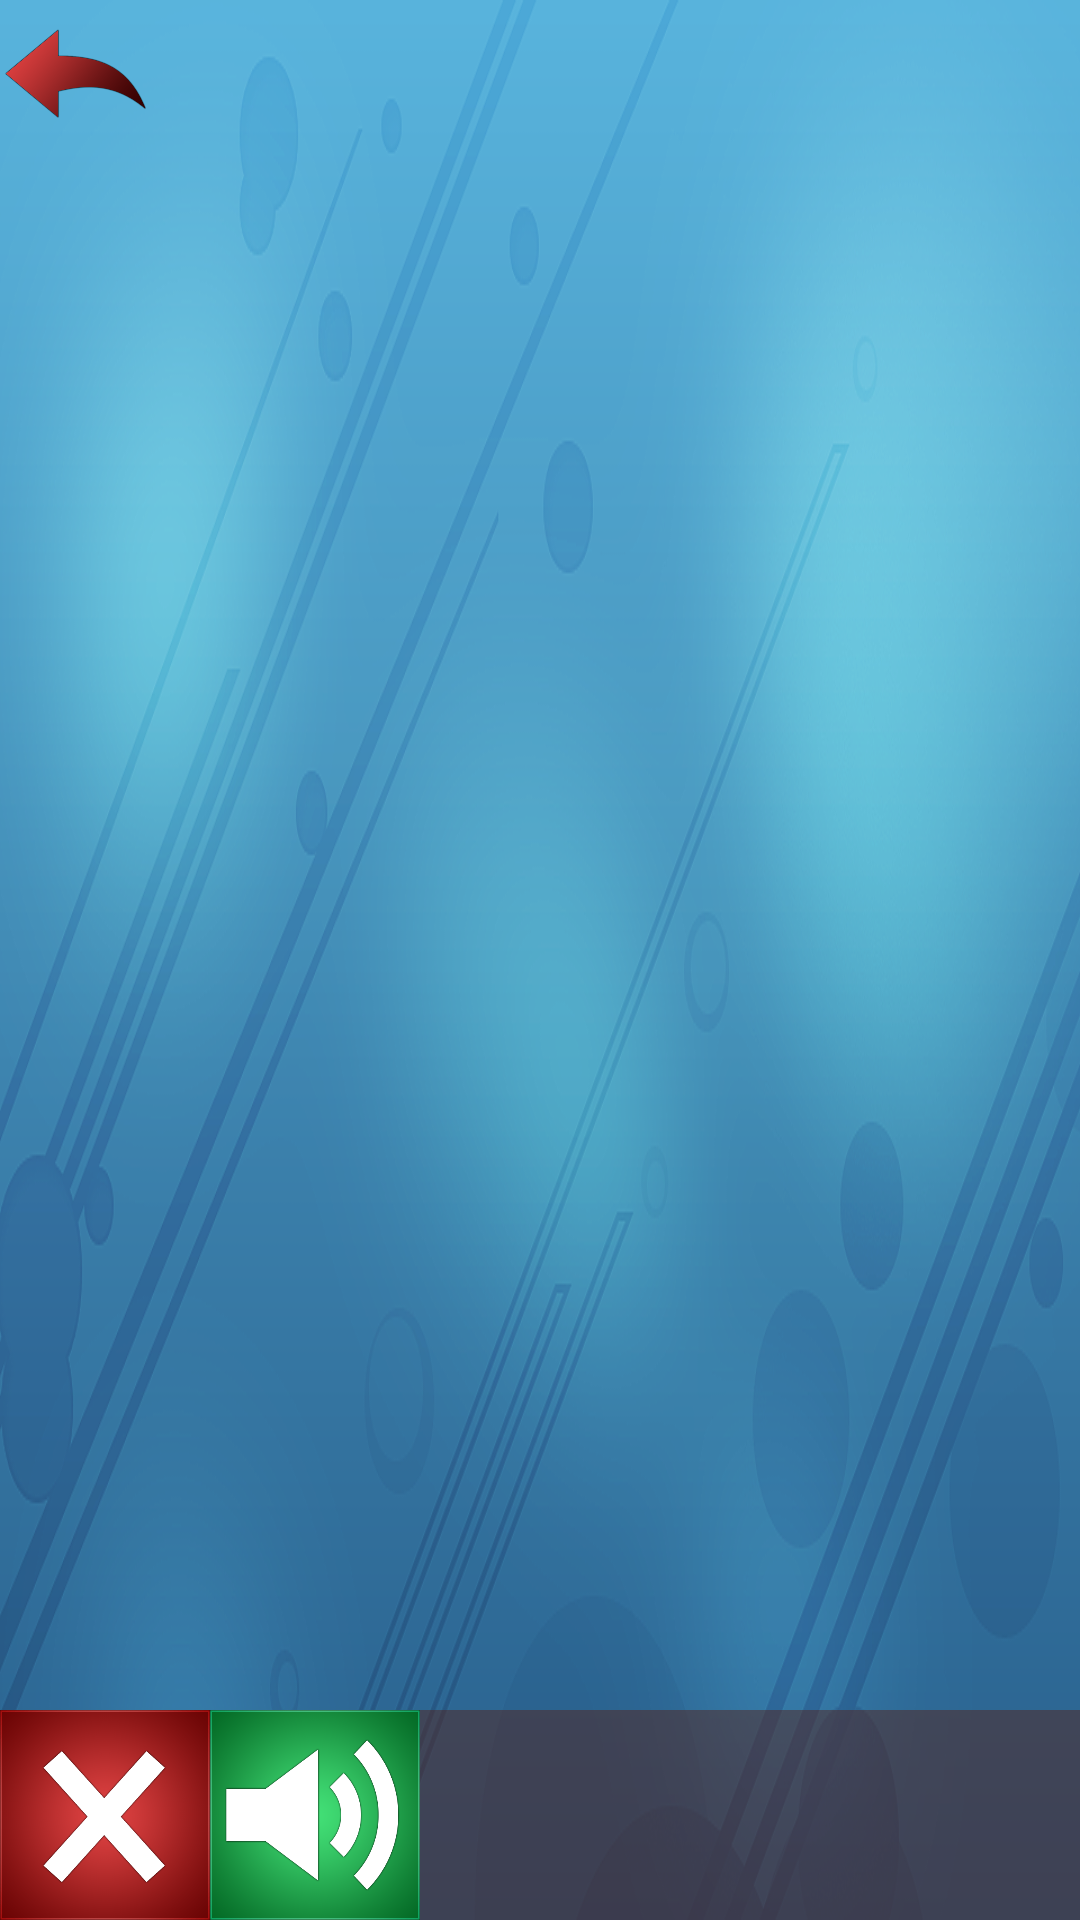

Screen size 1080px x 1920px. Icon name, then its center in pixels as (x,y):
category back: (75,74)
delete element: (105,1815)
speaker: (315,1815)
